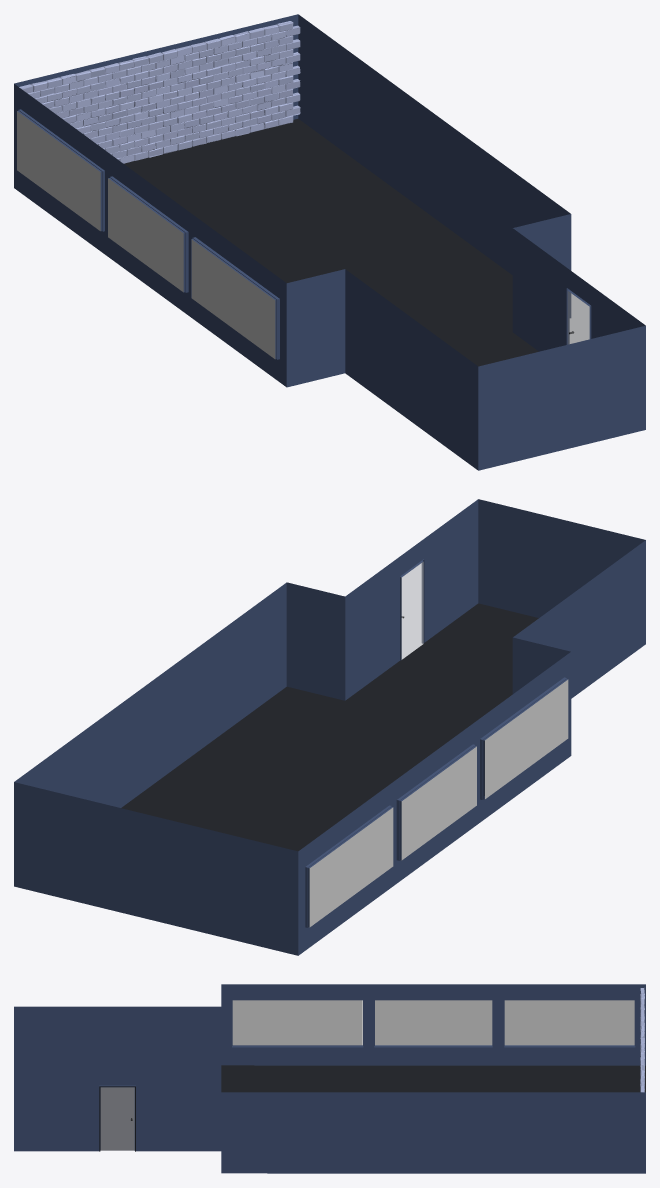
File: gym8.11.2023-uusinversio.fbx
3 renders of one model, top to bottom at view 1: azimuth 30°, elevation 25°; view 2: azimuth 150°, elevation 25°; view 3: azimuth 270°, elevation 25°, orthographic. The views are drawn at different scales.
Visible parts, largest first — view 1: Cube, floor, brick, brick.001, window 1, window 3, window 2, door; view 2: Cube, floor, window 3, window 1, window 2, door; view 3: Cube, floor, window 1, window 3, window 2, door, brick.
Boxes of the visible parts, x1,y1,x2,y2 form: Cube: [14, 14, 645, 470]; floor: [124, 118, 538, 366]; brick: [19, 21, 293, 163]; brick.001: [28, 25, 300, 158]; window 1: [191, 239, 275, 358]; window 3: [17, 111, 100, 230]; window 2: [108, 178, 183, 292]; door: [567, 291, 589, 344]; Cube: [14, 499, 645, 955]; floor: [121, 603, 538, 851]; window 3: [309, 807, 393, 927]; window 1: [485, 679, 568, 798]; window 2: [401, 746, 476, 860]; door: [401, 562, 423, 659]; Cube: [14, 984, 645, 1173]; floor: [100, 1065, 645, 1150]; window 1: [232, 1000, 362, 1045]; window 3: [504, 1000, 634, 1045]; window 2: [375, 1000, 492, 1045]; door: [100, 1087, 134, 1150]; brick: [640, 988, 644, 1092].
Size of the model in its own units: 1042 by 360 by 2536.
